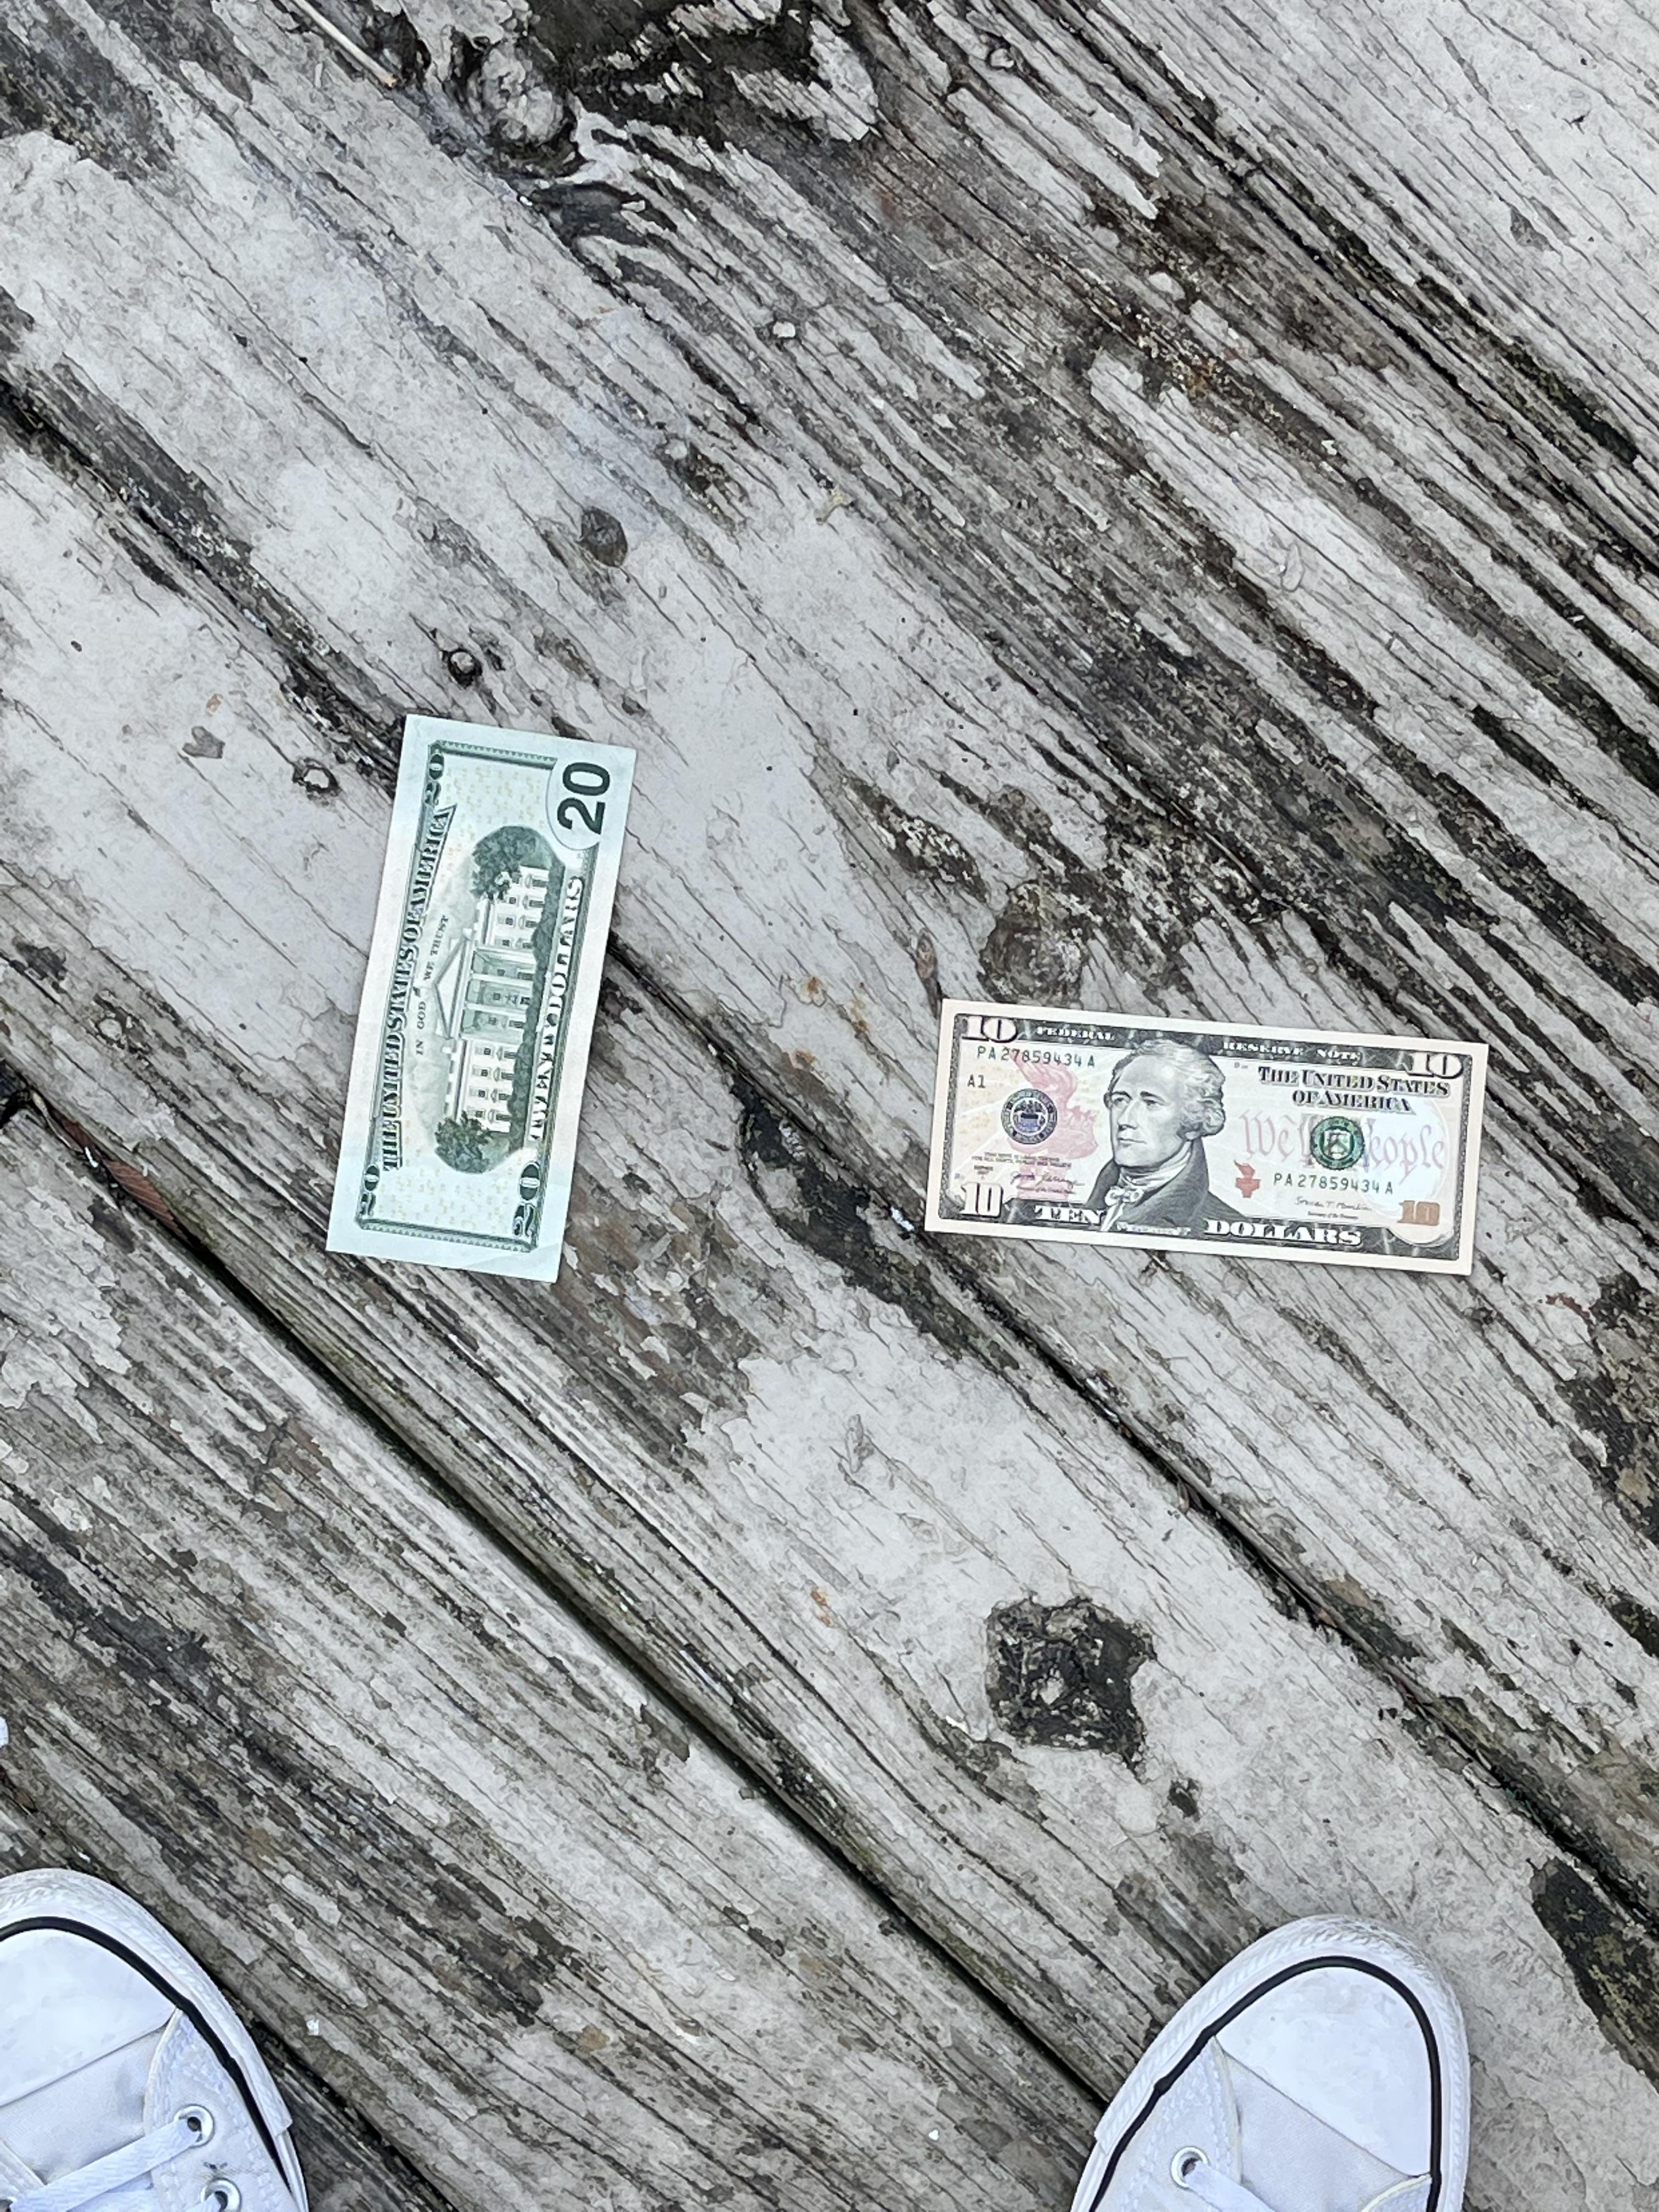TenBill: (924, 996, 1490, 1277)
TwentyBill: (322, 712, 638, 1285)
